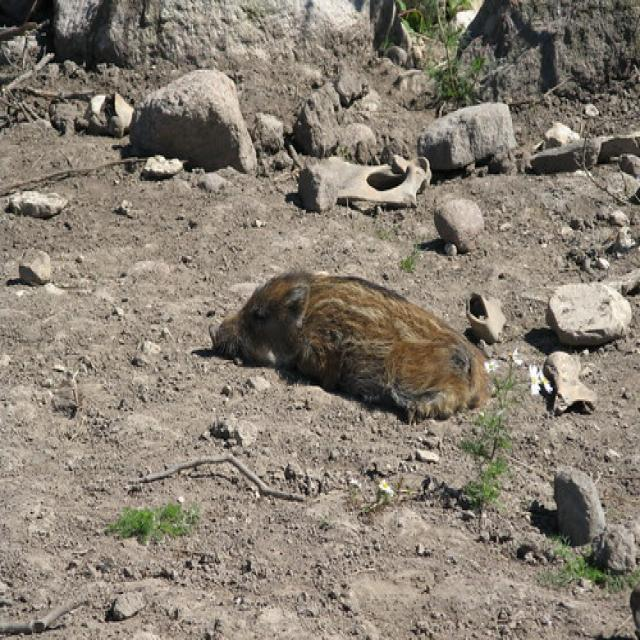boar: (189, 249, 506, 456)
